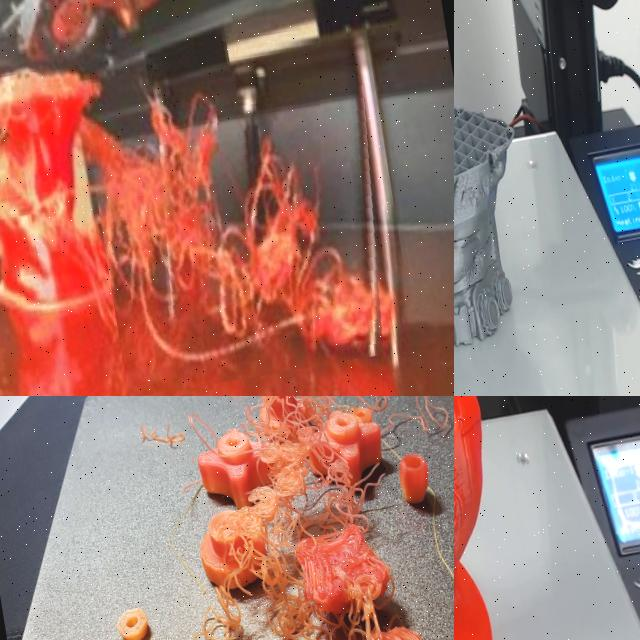spaghetti: (86, 83, 406, 396), (218, 399, 353, 640), (310, 396, 393, 534), (133, 405, 199, 472), (187, 573, 246, 640), (386, 396, 454, 445)
